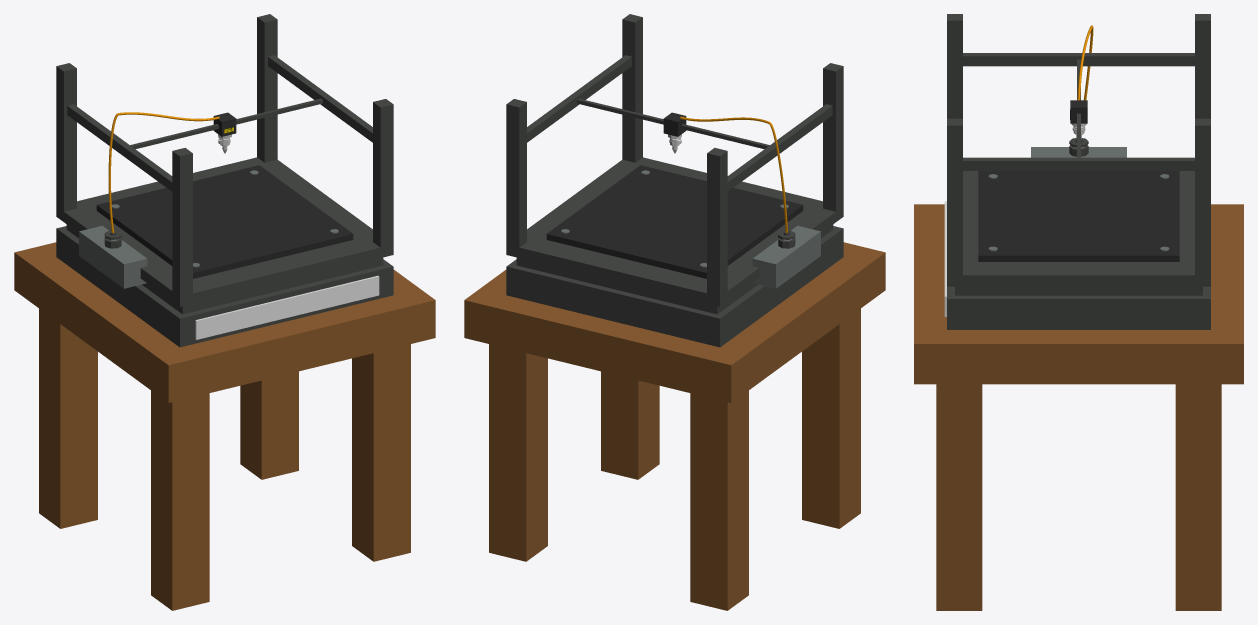
The model's file is LaserCutter.glb.
3 renders of one model, left to right at view 1: azimuth 30°, elevation 25°; view 2: azimuth 150°, elevation 25°; view 3: azimuth 270°, elevation 25°, orthographic. The views are drawn at different scales.
Parts seen in each view (by area): view 1: Table, Laser Cutter, Baseplate, Progress Bar, Altitude Bar, Laser Bar, Wire, Nozzle; view 2: Table, Laser Cutter, Baseplate, Altitude Bar, Laser Bar, Wire, Nozzle; view 3: Table, Laser Cutter, Baseplate, Altitude Bar, Nozzle.
Boxes of the visible parts, <box> form: Table: <box>14,242,435,610</box>; Laser Cutter: <box>56,14,393,347</box>; Baseplate: <box>96,165,353,278</box>; Progress Bar: <box>195,275,379,339</box>; Altitude Bar: <box>67,55,372,191</box>; Laser Bar: <box>130,98,322,149</box>; Wire: <box>108,112,219,232</box>; Nozzle: <box>213,112,236,153</box>; Table: <box>464,242,885,610</box>; Laser Cutter: <box>506,14,843,347</box>; Baseplate: <box>546,165,803,278</box>; Altitude Bar: <box>527,55,832,191</box>; Laser Bar: <box>577,98,769,149</box>; Wire: <box>680,116,787,232</box>; Nozzle: <box>663,112,686,153</box>; Table: <box>914,204,1243,610</box>; Laser Cutter: <box>947,14,1210,329</box>; Baseplate: <box>978,171,1179,261</box>; Altitude Bar: <box>963,53,1194,170</box>; Nozzle: <box>1070,100,1087,139</box>.
Size of the model in its own units: 2.5 by 4 by 2.5.
